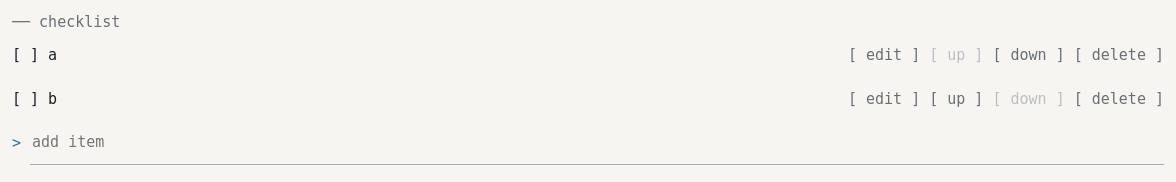
Test: checklist › [ delete ] removes an item and focuses the next one, else the add prompt
Check: the field labelled "add item" is shown, box [30,121,1164,165]
Click the button with aria-label "delete a" at (1119, 55), box [1074,33,1164,77]
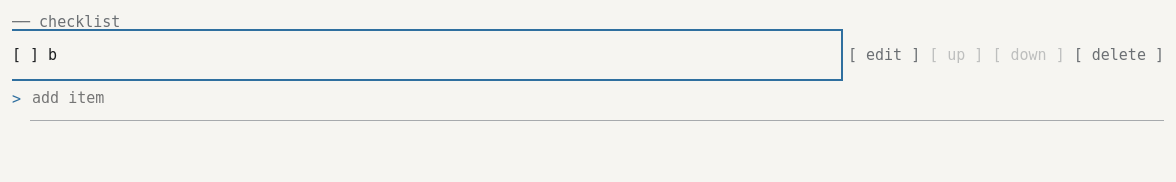
Click the button with aria-label "delete b" at (1119, 55), box [1074,33,1164,77]
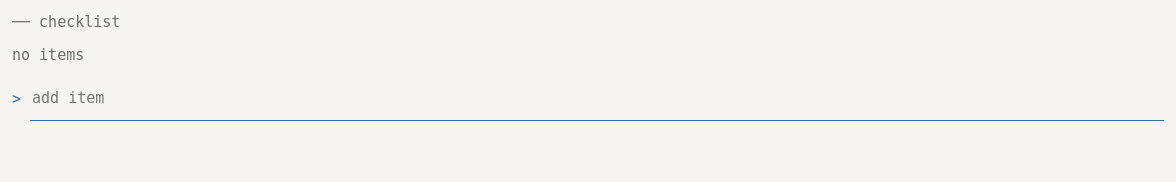
Check: the list item "no items" is shown, box [12,46,84,64]
